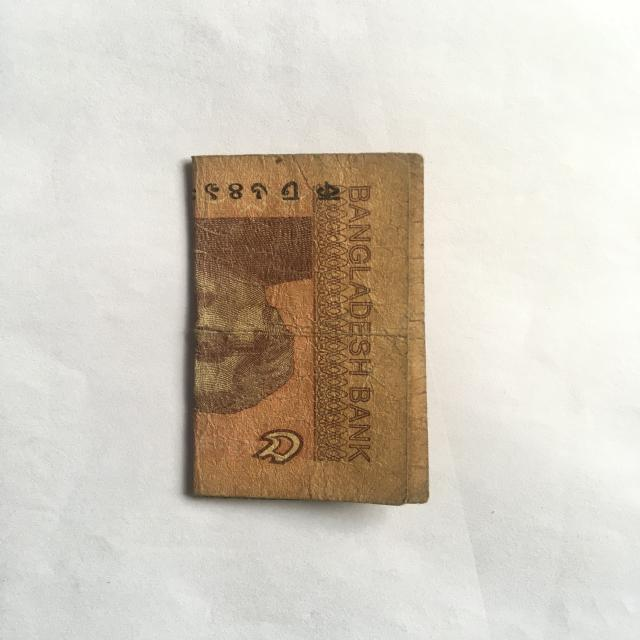Taka: (184, 146, 439, 514)
